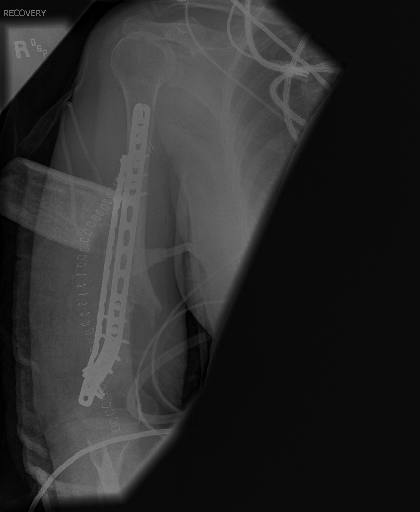implant: (79, 99, 155, 407)
